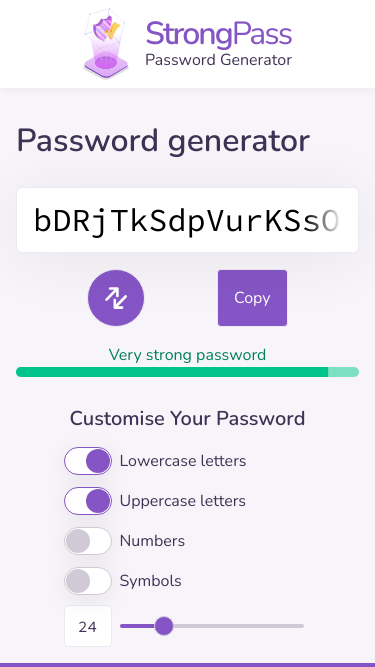
Test: Password customisation › displays only numbers if the only option ticked is numbers
What coordinates should you click on to do the following:
click the checkbox labelled "Lowercase letters"
I would click on:
 (184, 461)
Its box is left=120, top=450, right=247, bottom=472.
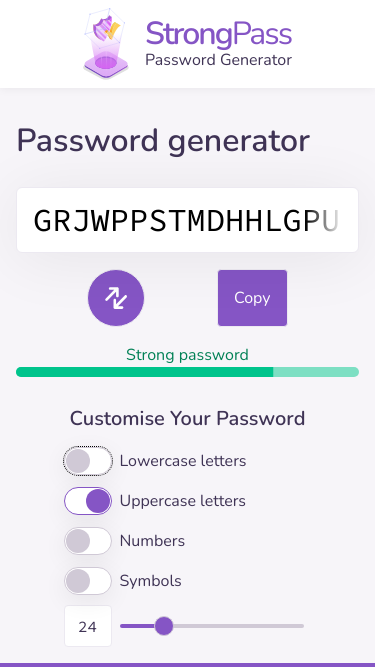
What coordinates should you click on to do the following:
click the checkbox labelled "Uppercase letters"
I would click on:
 (184, 501)
Its box is left=120, top=490, right=247, bottom=512.
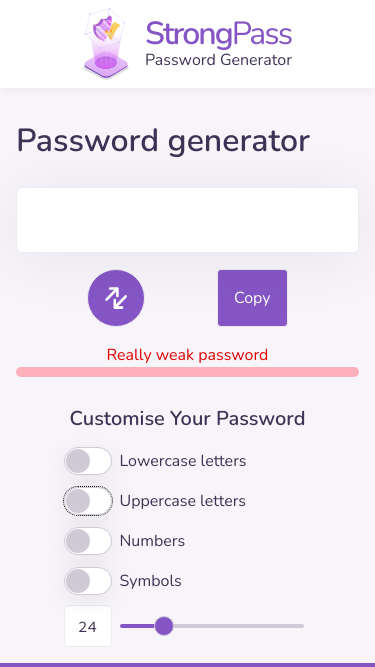
What coordinates should you click on to do the following:
click the checkbox labelled "Numbers"
I would click on:
 (153, 541)
Its box is left=120, top=530, right=186, bottom=552.
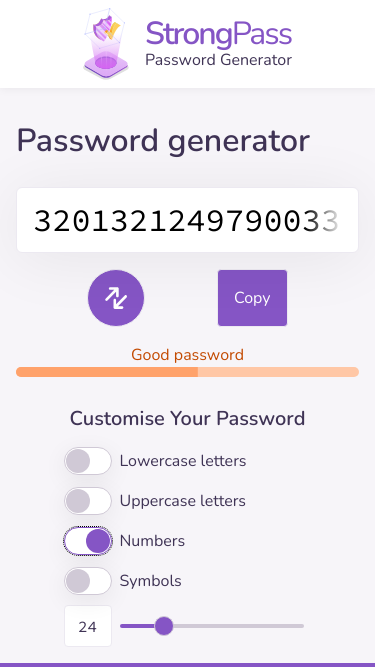
Check: the field named "generatedPassword" holds "[0-9]", box left=16, top=187, right=359, bottom=253
